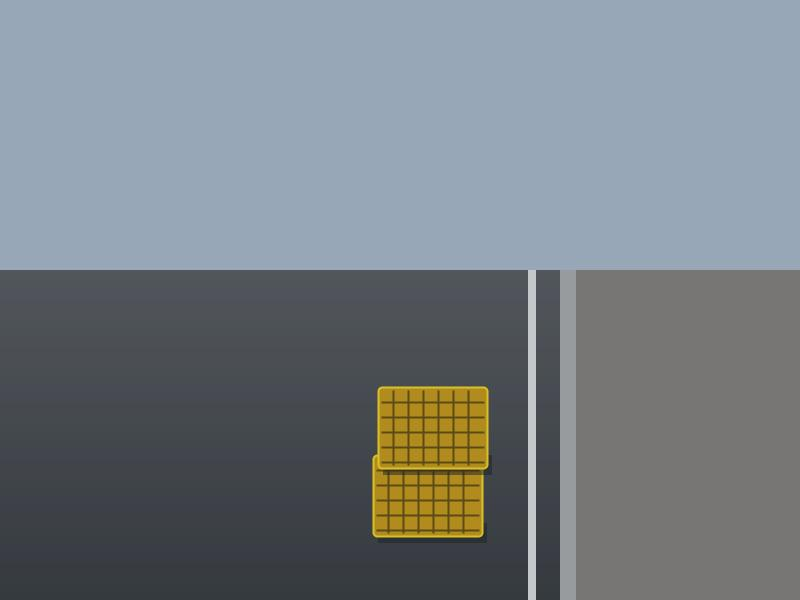ROAD_OBSTACLE: (373, 387, 482, 536)
